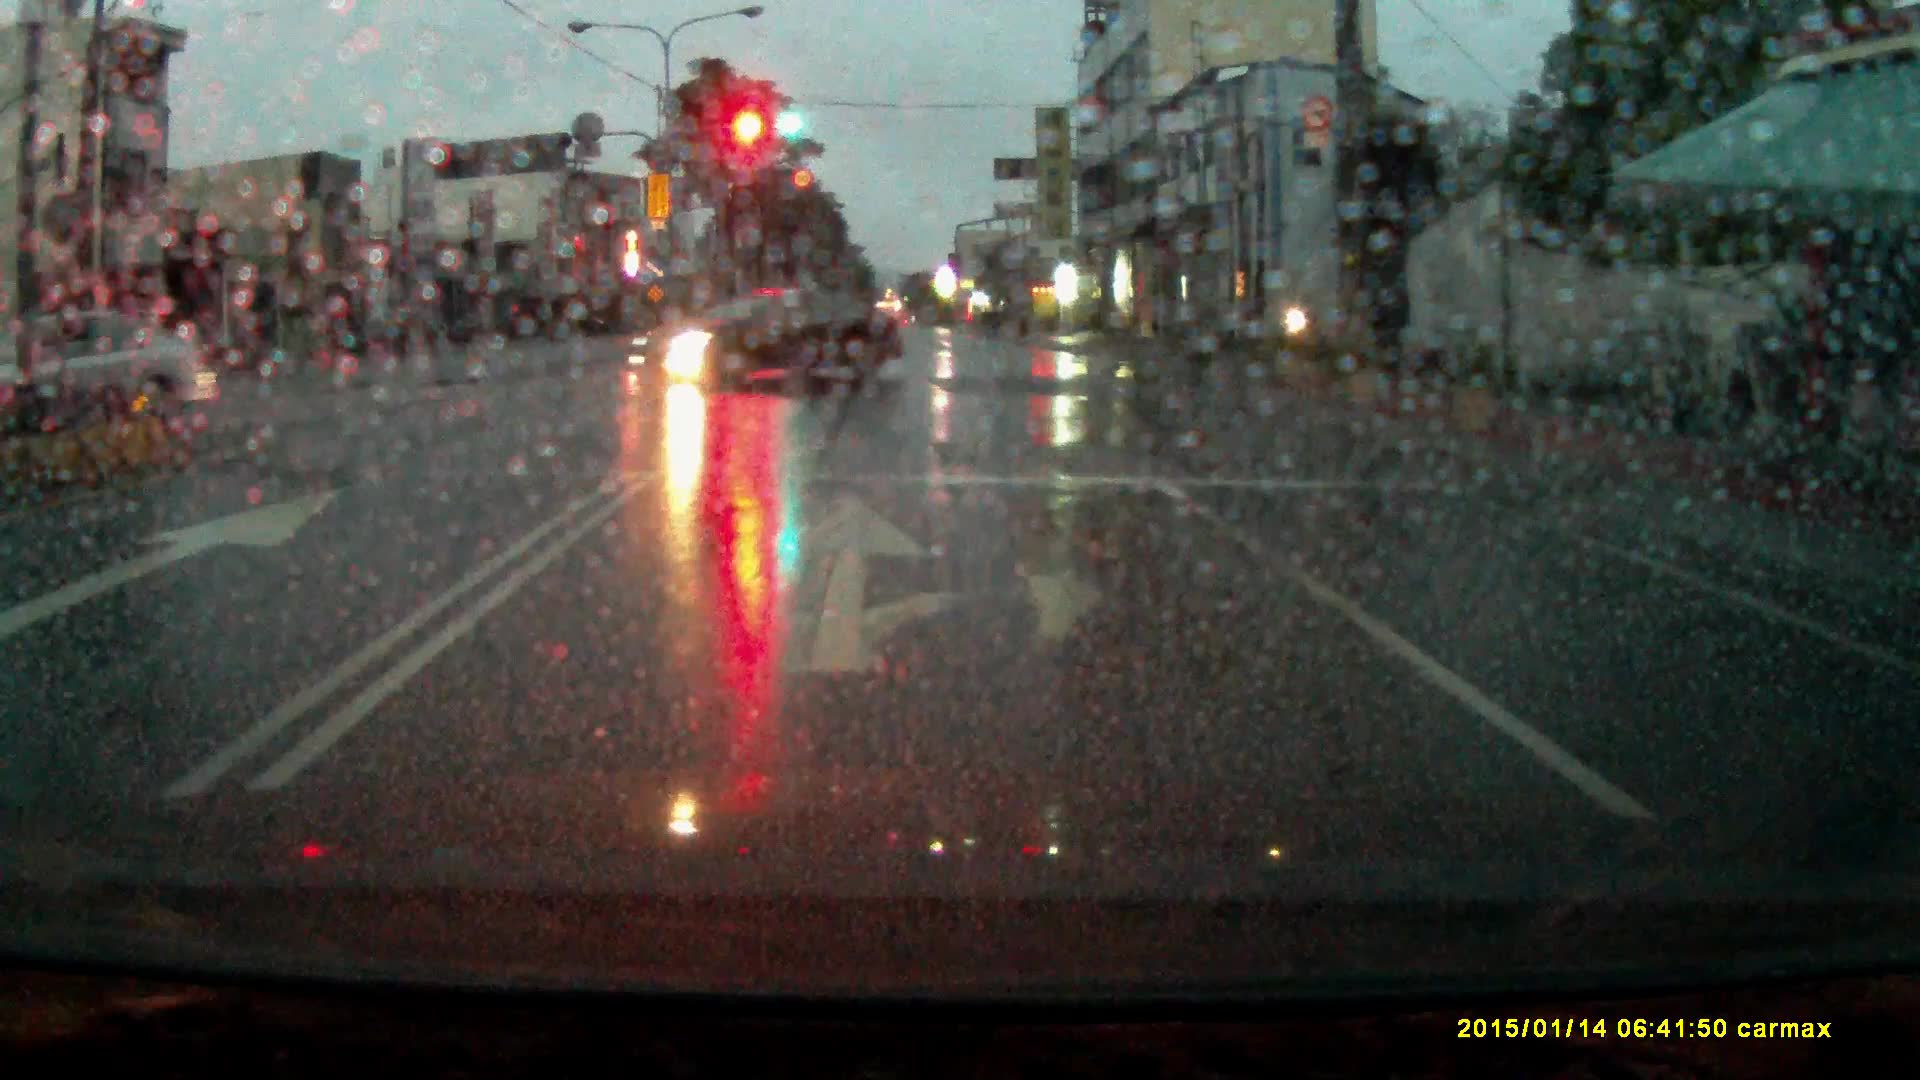rider: (1278, 282, 1324, 356)
vehicle: (623, 289, 897, 395), (1, 308, 220, 425)
